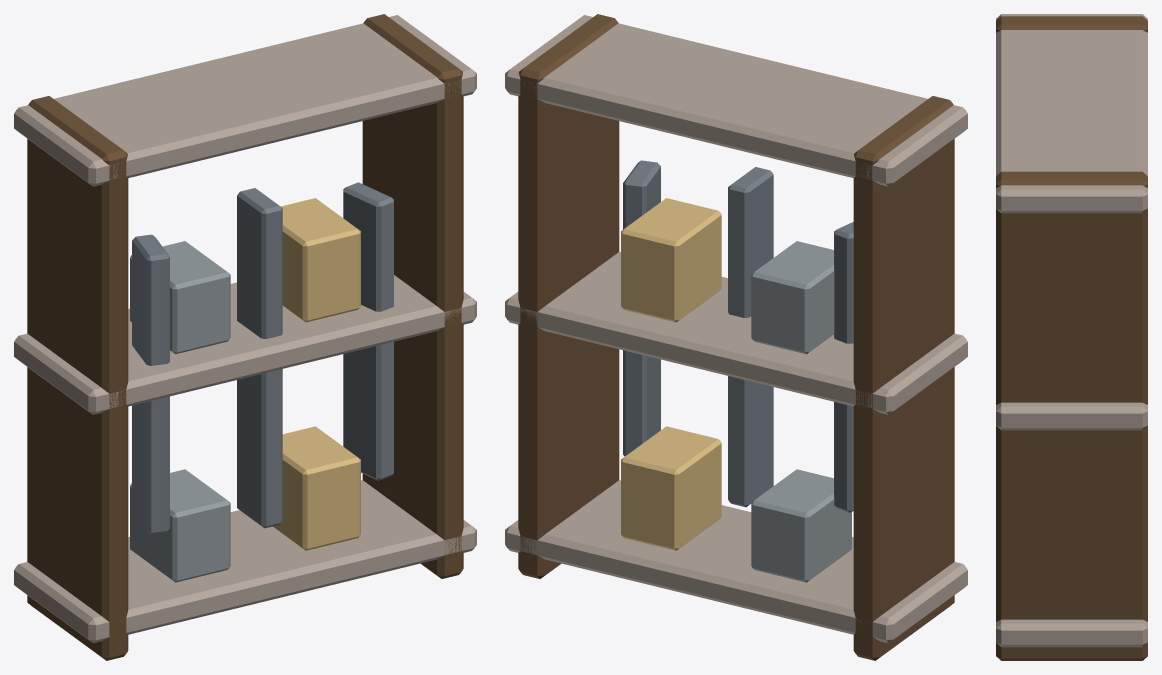
The model's file is town_tool_rack.lod1.glb.
3 renders of one model, left to right at view 1: azimuth 30°, elevation 25°; view 2: azimuth 150°, elevation 25°; view 3: azimuth 270°, elevation 25°, orthographic. The views are drawn at different scales.
Size of the model in its own units: 1.46 by 1.82 by 0.52.
